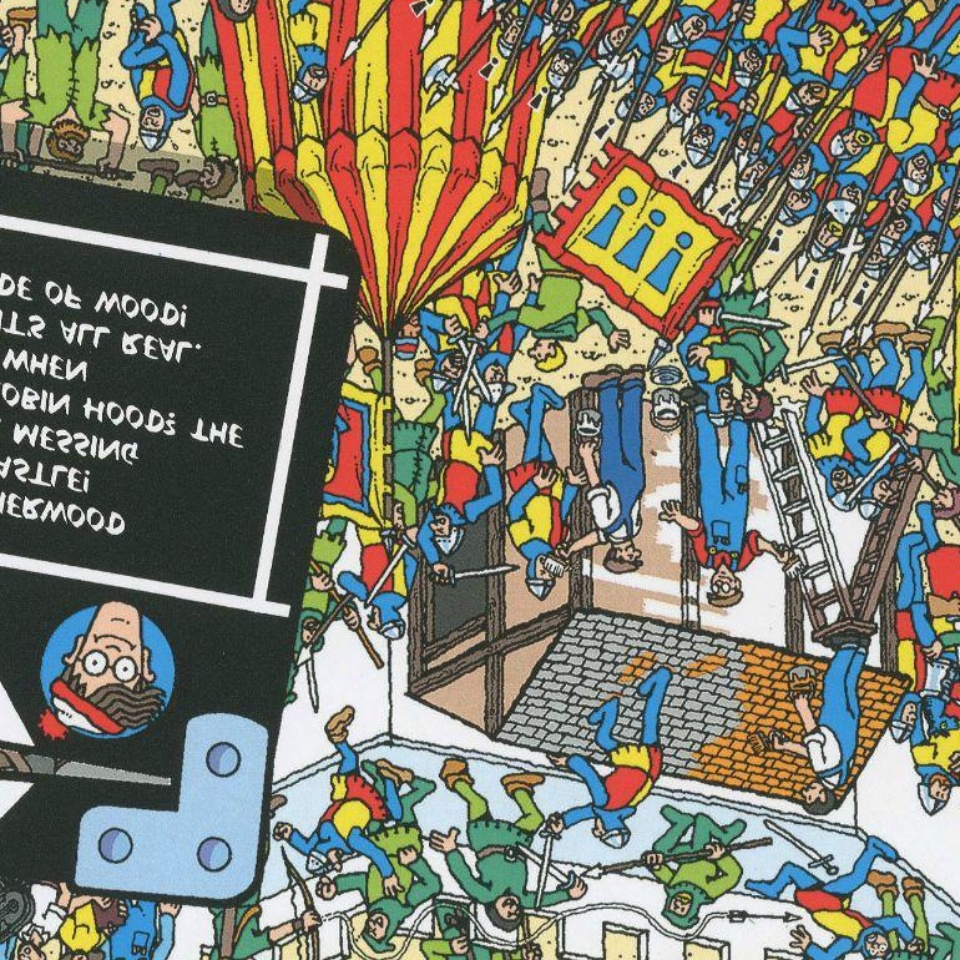waldo: (38, 599, 177, 737)
